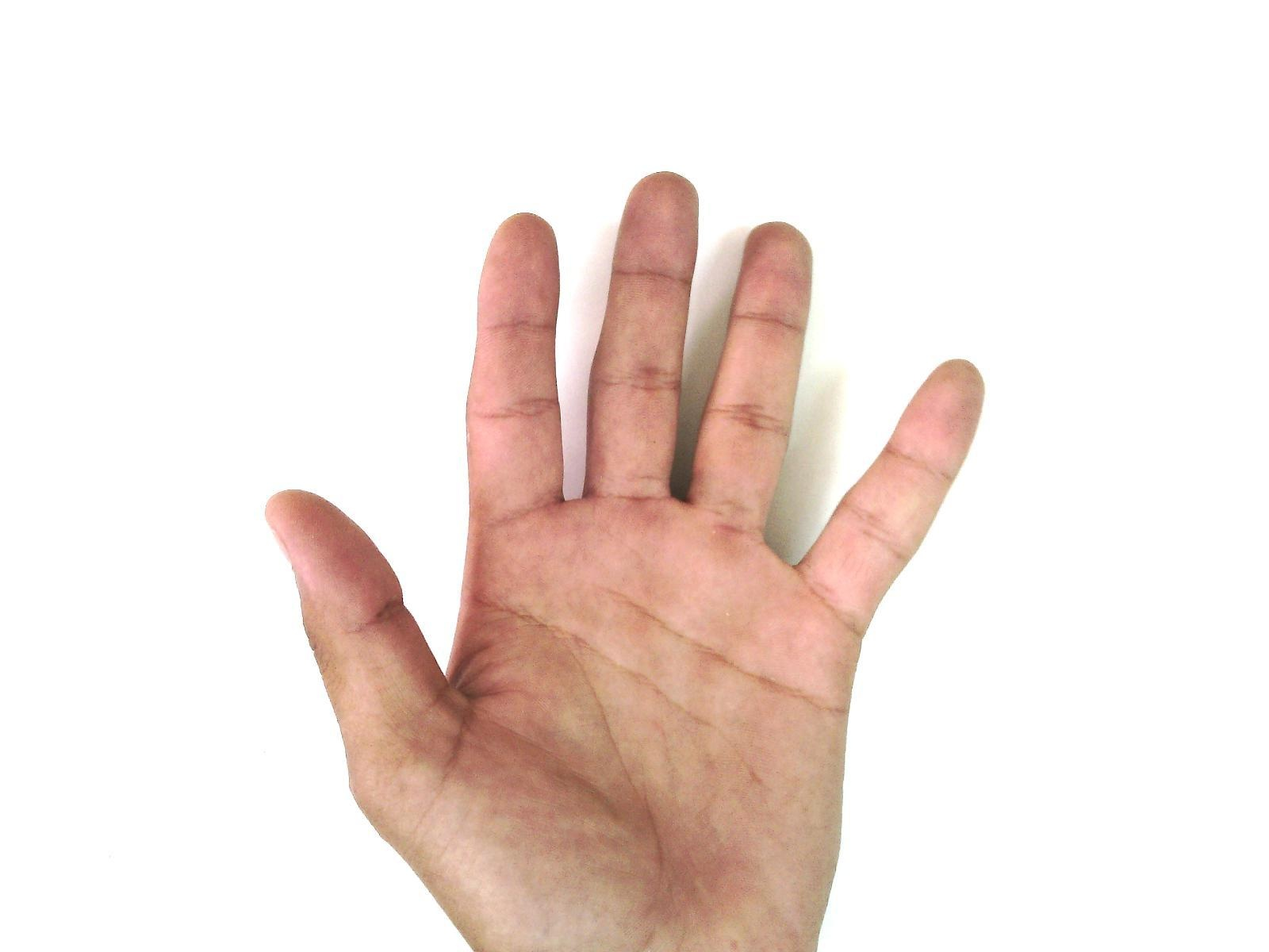open_palm: (263, 170, 988, 952)
